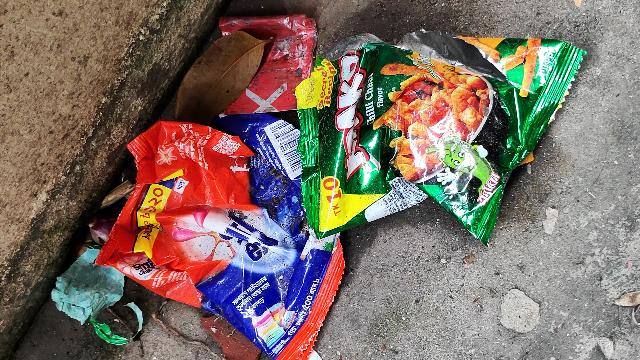packet: (67, 115, 354, 360), (301, 35, 593, 244), (220, 17, 311, 117)
